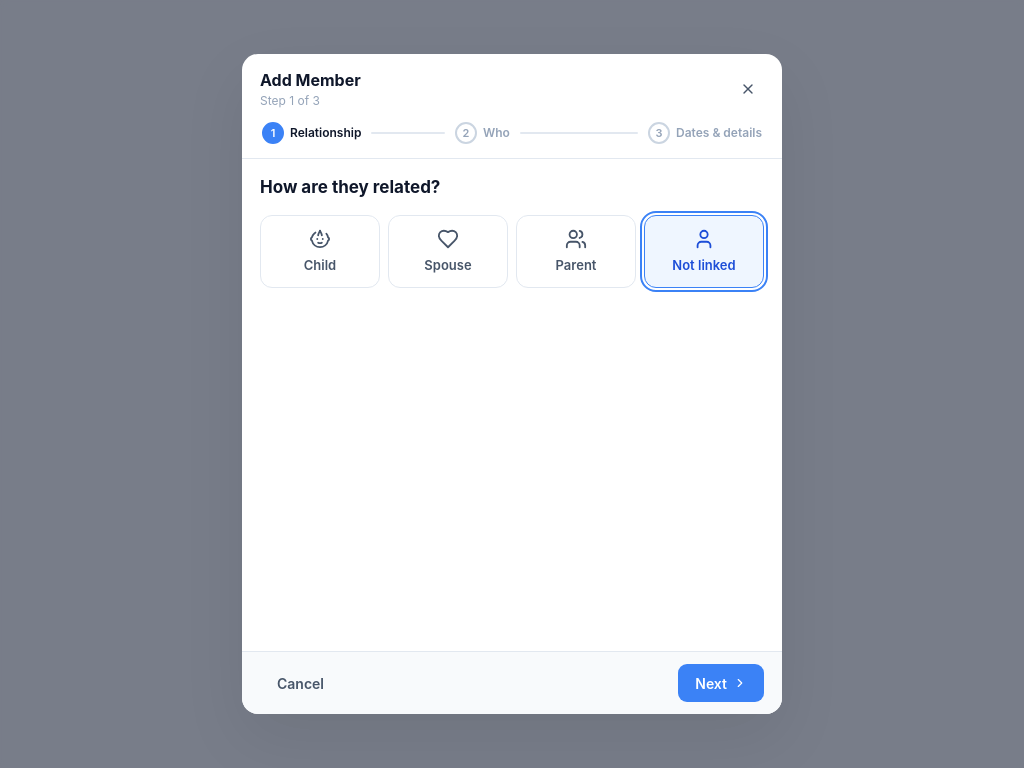
Test: rejects names that contain numbers
This screenshot has width=1024, height=768.
Click the button "Child".
click(320, 251)  # box [260,214,380,288]
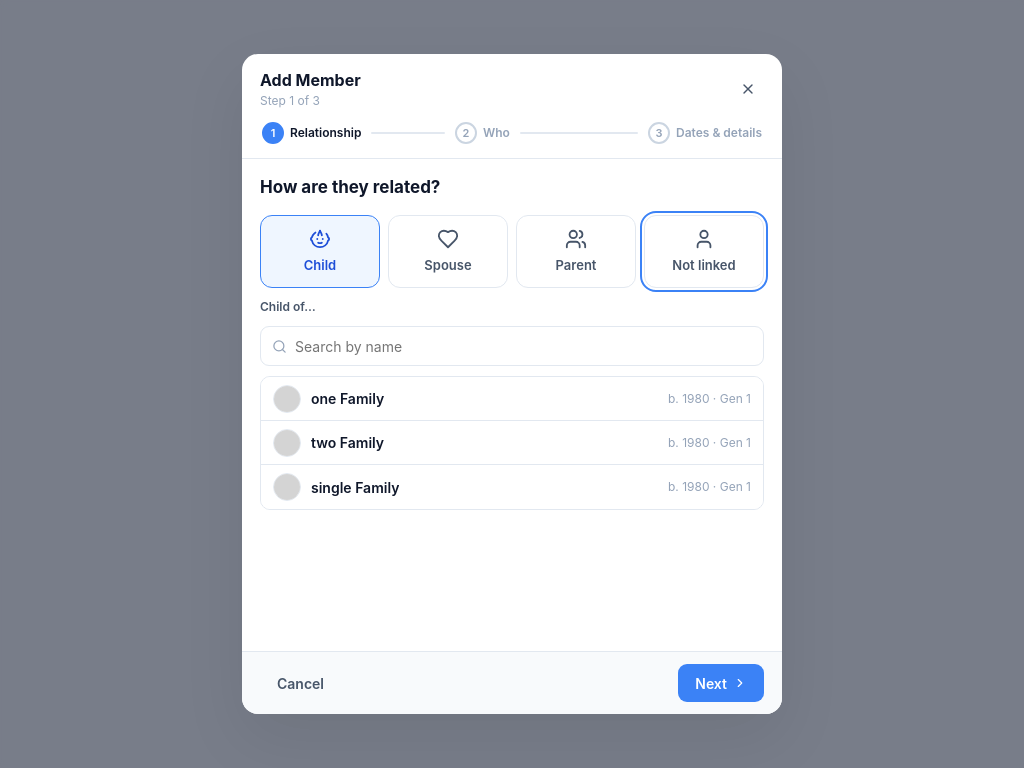
Click the button "one Family b. 1980 · Gen 1".
click(348, 398)  # box [261,377,763,421]
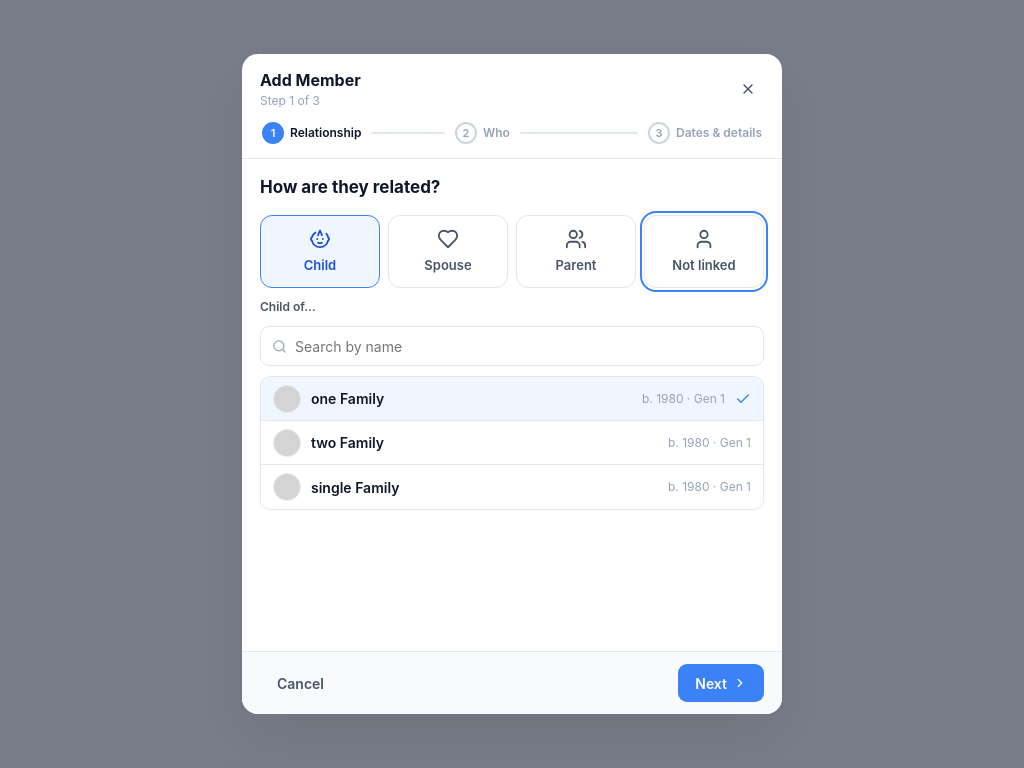
Click the button "Next".
click(721, 683)  # box [678,664,764,702]
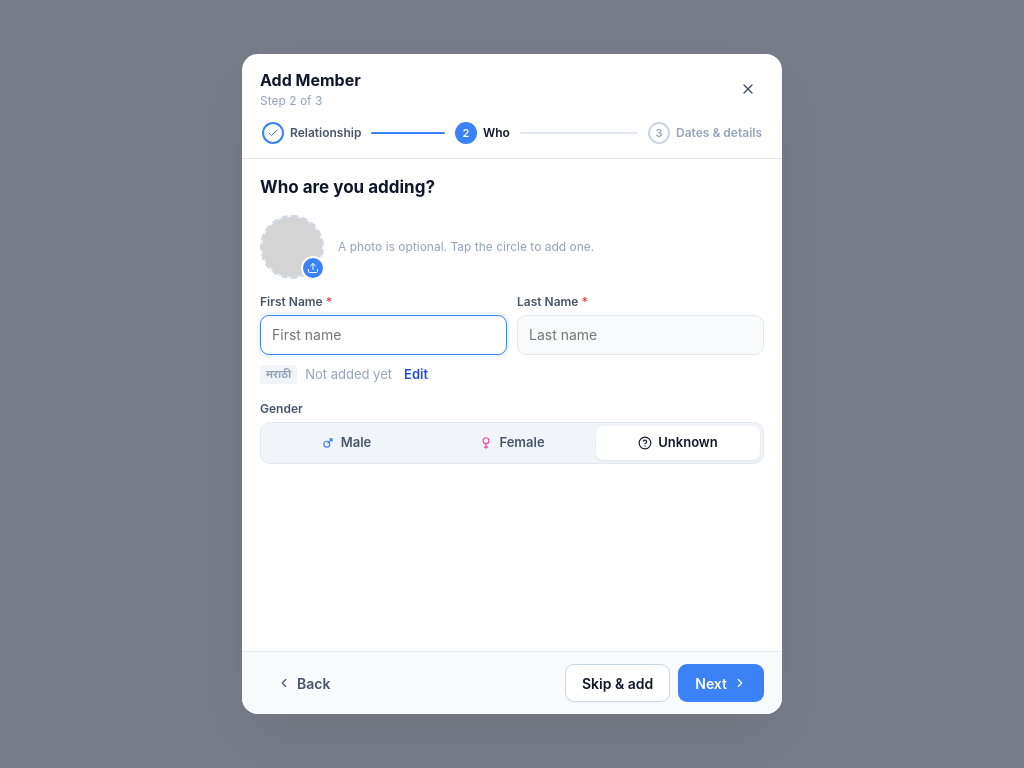
Type "New2" into the field with placeholder "First Name".
click(384, 334); type("New2")  # box [260,314,507,354]
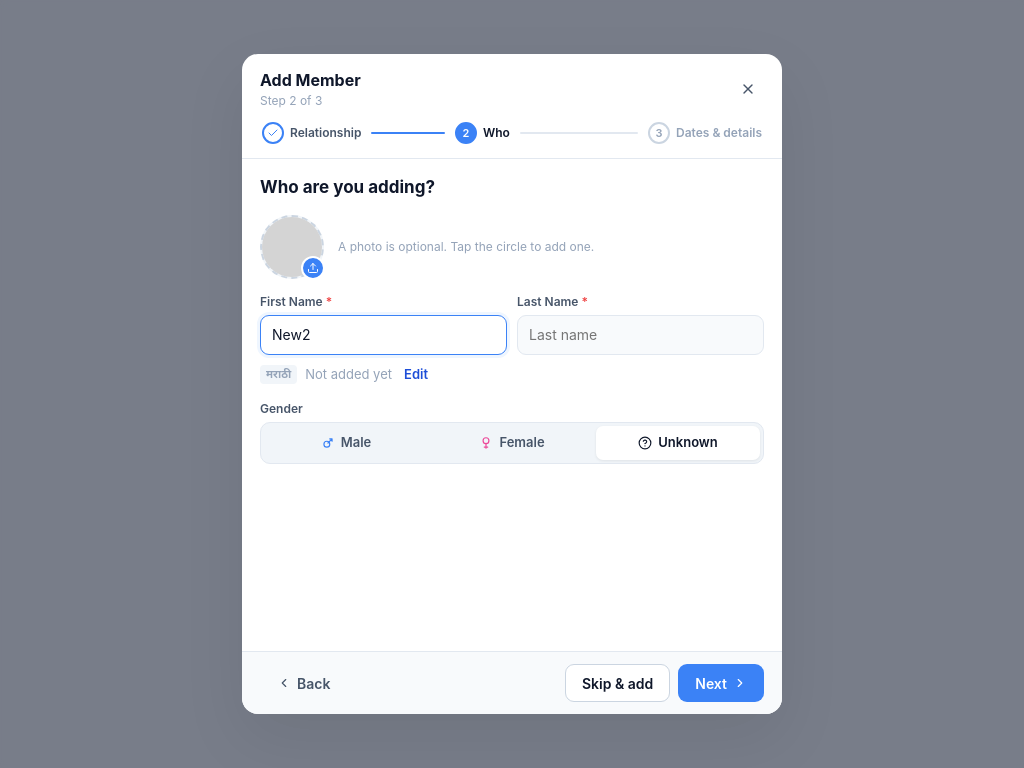
Type "Family" into the field with placeholder "Last Name".
click(640, 334); type("Family")  # box [517,314,764,354]
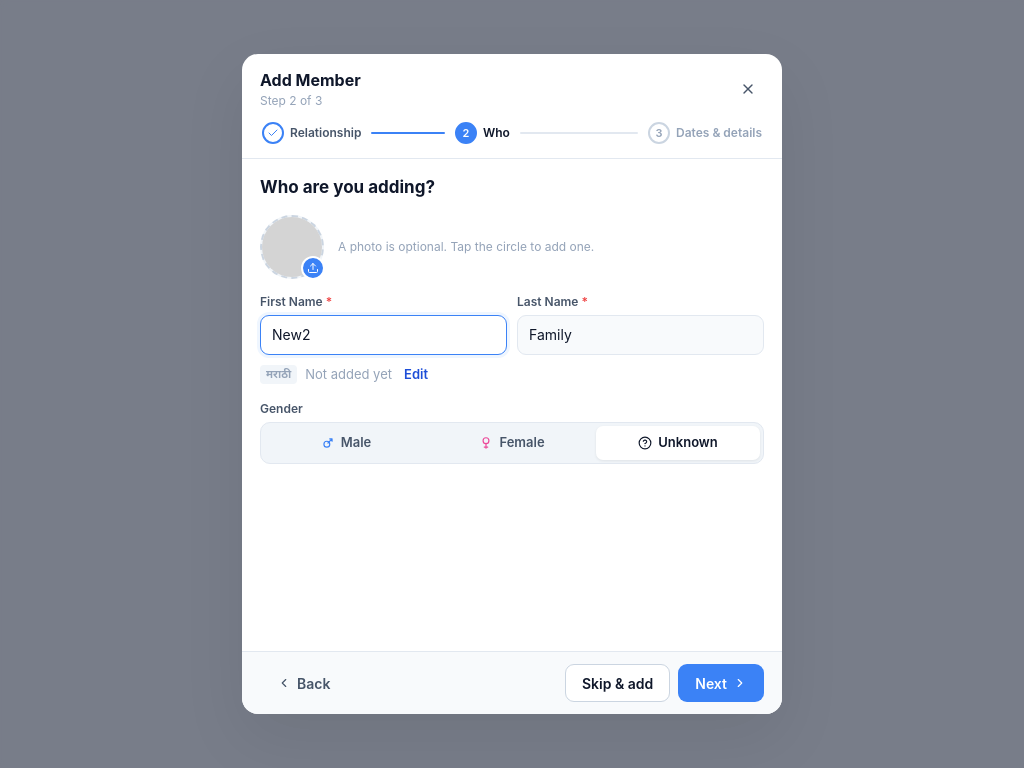
Click the button "Next".
click(721, 683)  # box [678,664,764,702]
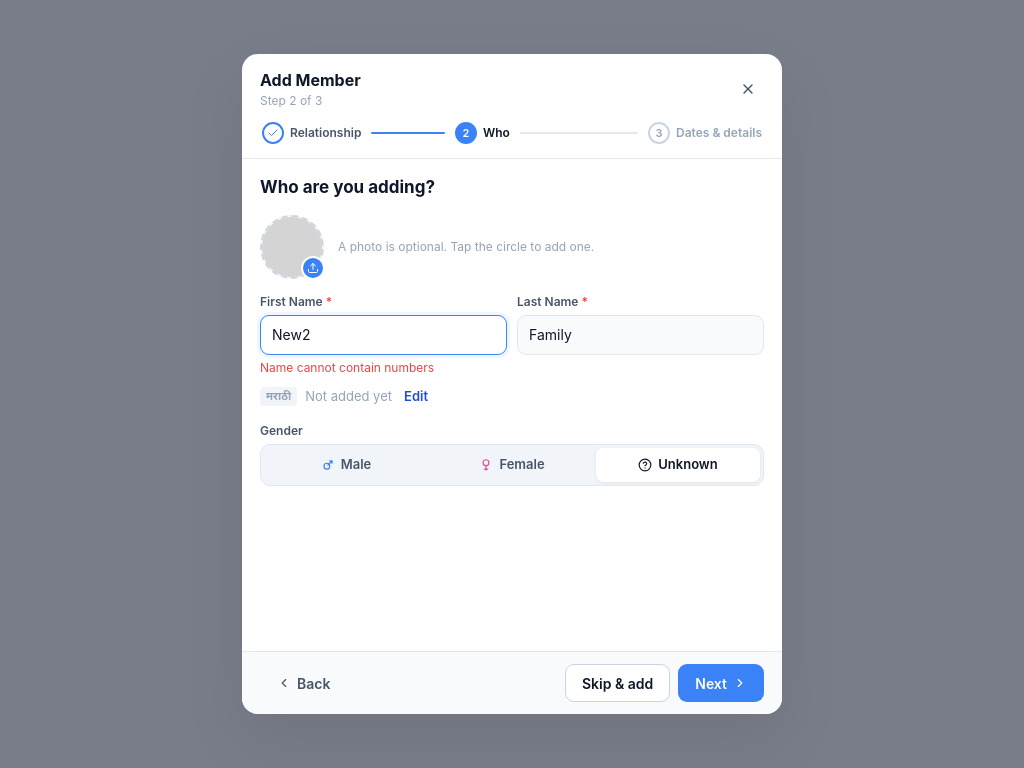
Expected: the heading "Who are you adding?" is shown, [260,177,435,197]
Expected: the text "Name cannot contain numbers" is shown, [260,360,434,374]
